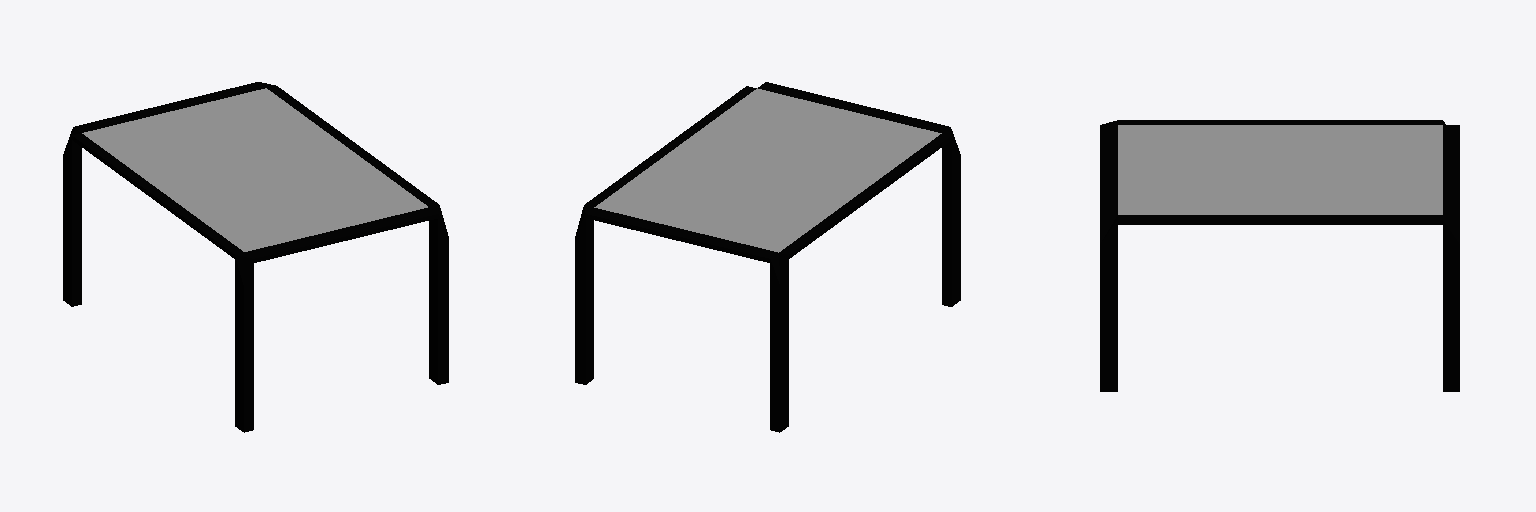
File: DESK.obj
3 views of the same model, side by side, from view 1: azimuth 30°, elevation 25°; view 2: azimuth 150°, elevation 25°; view 3: azimuth 270°, elevation 25° (orthographic).
Visible parts, largest first — view 1: Cube001; view 2: Cube001; view 3: Cube001.
Boxes of the visible parts, x1=… form: Cube001: x1=63, y1=82, x2=448, y2=432; Cube001: x1=575, y1=82, x2=960, y2=432; Cube001: x1=1100, y1=120, x2=1459, y2=391.
Size of the model in its own units: 37.48 by 29.97 by 57.19.